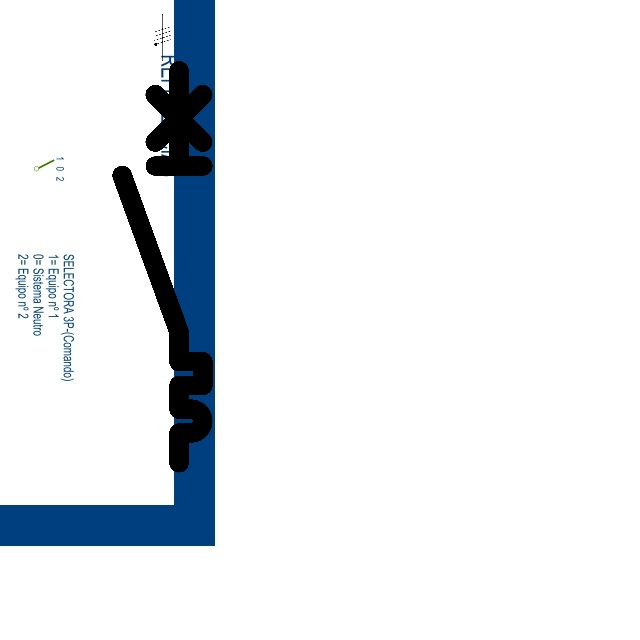interruptor_termomagnetico: (112, 60, 213, 472)
